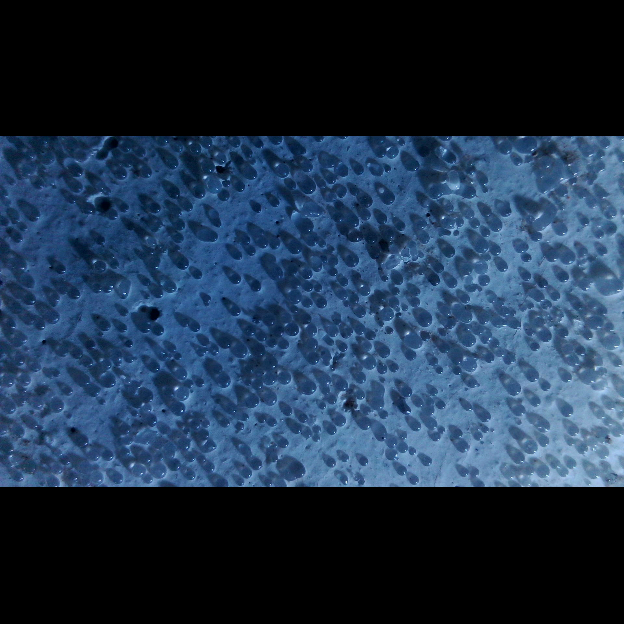GrassBeadSeg: (516, 139, 538, 154), (404, 333, 423, 349), (198, 229, 218, 243), (416, 312, 434, 327), (205, 178, 223, 193), (288, 464, 306, 479), (100, 374, 117, 388), (232, 344, 249, 358), (162, 443, 177, 458), (461, 359, 478, 372), (460, 334, 476, 347), (274, 165, 290, 178), (261, 392, 277, 405), (301, 181, 317, 194), (428, 186, 444, 199), (560, 251, 576, 264), (151, 466, 168, 478), (216, 375, 231, 388), (370, 398, 385, 411), (45, 311, 60, 324), (288, 242, 304, 254), (244, 396, 260, 408), (344, 255, 360, 267), (170, 403, 186, 415), (538, 157, 554, 169), (450, 353, 464, 366), (474, 262, 488, 275), (176, 388, 190, 401), (475, 240, 489, 253), (490, 219, 504, 232), (357, 418, 372, 430), (381, 193, 396, 205), (218, 337, 233, 349), (90, 472, 105, 484), (131, 465, 146, 477), (140, 390, 155, 402), (369, 164, 384, 176), (380, 309, 395, 321), (299, 222, 314, 234), (251, 344, 266, 356), (301, 381, 316, 393), (345, 216, 360, 228), (119, 142, 135, 153), (279, 372, 292, 385), (525, 441, 538, 454), (456, 441, 470, 453), (507, 383, 521, 395), (3, 402, 17, 414), (192, 187, 206, 199), (499, 142, 513, 154), (525, 370, 539, 382), (326, 326, 340, 338), (202, 162, 216, 174), (163, 282, 178, 293), (554, 224, 569, 235), (536, 467, 551, 478), (362, 358, 377, 369), (86, 386, 101, 397), (146, 259, 161, 270), (460, 264, 473, 276), (82, 203, 95, 215), (70, 182, 83, 194), (72, 166, 85, 178), (115, 168, 128, 180), (166, 158, 179, 170), (353, 307, 367, 318), (151, 325, 165, 336), (75, 436, 89, 447), (147, 362, 161, 373), (442, 247, 456, 258), (148, 203, 162, 214), (545, 251, 559, 262), (174, 369, 188, 380), (359, 197, 373, 208), (301, 161, 315, 172), (262, 315, 276, 326), (498, 206, 512, 217), (353, 325, 367, 336), (335, 380, 349, 391), (50, 401, 64, 412), (263, 358, 277, 369), (174, 259, 189, 269), (347, 232, 362, 242), (416, 234, 431, 244), (287, 292, 302, 302), (365, 234, 380, 244), (358, 285, 370, 297), (172, 141, 184, 153), (386, 147, 398, 159), (418, 146, 430, 158), (540, 330, 552, 342), (585, 372, 597, 384), (240, 468, 253, 479), (561, 406, 574, 417), (315, 298, 328, 309), (218, 191, 231, 202), (378, 347, 391, 358), (307, 353, 320, 364), (111, 473, 124, 484), (184, 470, 197, 481), (168, 188, 181, 199), (28, 211, 41, 222), (138, 322, 151, 333), (537, 421, 550, 432), (189, 143, 202, 154), (178, 439, 191, 450), (336, 289, 349, 300), (139, 168, 152, 179), (286, 324, 299, 335), (354, 373, 367, 384), (400, 386, 413, 397), (270, 269, 283, 280), (263, 374, 276, 385), (229, 274, 243, 284), (249, 460, 263, 470), (255, 238, 269, 248), (133, 148, 147, 158), (178, 318, 192, 328), (588, 469, 602, 479), (169, 461, 183, 471), (515, 243, 529, 253), (46, 478, 61, 487), (230, 306, 242, 317), (250, 281, 262, 292), (189, 322, 201, 333), (497, 261, 509, 272), (374, 147, 386, 158), (21, 166, 33, 177), (269, 239, 281, 250), (42, 153, 54, 164), (407, 161, 419, 172), (464, 187, 476, 198), (538, 183, 550, 194), (596, 189, 608, 200), (590, 318, 601, 330), (307, 235, 319, 246), (334, 415, 346, 426), (94, 261, 107, 271), (513, 406, 526, 416), (530, 232, 543, 242), (433, 263, 446, 273), (106, 210, 119, 220), (210, 364, 223, 374), (12, 472, 25, 482), (118, 425, 131, 435), (145, 416, 158, 426), (604, 224, 617, 234), (358, 211, 372, 220), (138, 454, 152, 463), (269, 136, 283, 145), (605, 208, 616, 219), (609, 337, 620, 348), (478, 276, 490, 286), (191, 270, 203, 280), (421, 457, 433, 467), (386, 438, 398, 448), (174, 221, 186, 231), (172, 234, 184, 244), (406, 351, 418, 361), (203, 463, 215, 473), (13, 427, 25, 437), (244, 325, 256, 335), (598, 449, 610, 459), (568, 356, 580, 366), (385, 451, 397, 461), (425, 420, 437, 430), (599, 139, 611, 149), (503, 470, 515, 480), (442, 218, 454, 228), (190, 420, 202, 430), (375, 432, 387, 442), (594, 163, 606, 173), (151, 289, 164, 298), (225, 405, 238, 414), (325, 458, 336, 468), (530, 397, 541, 407), (539, 437, 550, 447), (397, 466, 408, 476), (245, 247, 256, 257), (490, 246, 501, 256), (561, 373, 572, 383), (301, 429, 312, 439), (353, 165, 364, 175), (480, 412, 491, 422), (424, 406, 435, 416), (358, 457, 370, 466), (410, 422, 422, 431), (514, 454, 526, 463), (540, 382, 552, 391), (388, 364, 400, 373), (577, 445, 589, 454), (376, 215, 388, 224), (277, 439, 289, 448), (102, 451, 114, 460), (451, 430, 463, 439), (231, 251, 243, 260), (509, 320, 521, 329), (483, 354, 495, 363), (291, 425, 303, 434), (369, 250, 381, 259), (198, 430, 210, 439), (325, 193, 337, 202), (160, 351, 172, 360), (307, 340, 319, 349), (493, 318, 505, 327), (60, 456, 72, 465), (25, 464, 37, 473), (216, 479, 229, 487), (121, 437, 134, 445), (239, 236, 252, 244), (56, 264, 66, 274), (410, 298, 420, 308), (71, 289, 81, 299), (25, 278, 35, 288), (26, 295, 36, 305), (25, 315, 35, 325), (6, 321, 16, 331), (18, 333, 28, 343), (31, 362, 41, 372), (4, 377, 14, 387), (73, 349, 83, 359), (80, 375, 90, 385), (100, 321, 110, 331), (92, 284, 102, 294), (17, 395, 27, 405), (33, 399, 43, 409), (63, 386, 73, 396), (575, 347, 586, 356), (119, 204, 130, 213), (513, 157, 524, 166), (377, 365, 388, 374), (504, 356, 515, 365), (365, 331, 376, 340), (119, 448, 130, 457), (428, 357, 439, 366), (462, 403, 473, 412), (196, 348, 207, 357), (200, 337, 211, 346), (183, 202, 194, 211), (410, 287, 421, 296), (534, 319, 545, 328), (160, 425, 171, 434), (158, 136, 169, 145), (246, 171, 257, 180), (286, 181, 297, 190), (269, 198, 280, 207), (338, 168, 349, 177), (374, 136, 385, 145), (89, 451, 100, 460), (52, 465, 63, 474), (219, 419, 231, 427), (586, 200, 598, 208), (332, 214, 344, 222), (459, 468, 469, 477), (339, 475, 349, 484), (197, 454, 207, 463), (473, 432, 483, 441), (50, 293, 59, 303), (36, 321, 45, 331), (15, 356, 24, 366), (20, 376, 30, 385), (86, 340, 95, 350), (202, 139, 212, 148), (216, 155, 226, 164), (235, 183, 245, 192), (326, 158, 336, 167), (446, 155, 456, 164), (444, 203, 454, 212), (464, 210, 474, 219), (417, 220, 427, 229), (396, 222, 406, 231), (536, 221, 546, 230), (558, 188, 568, 197), (598, 247, 608, 256), (580, 282, 590, 291), (559, 273, 569, 282), (598, 307, 608, 316), (542, 300, 552, 309), (535, 293, 545, 302), (522, 272, 532, 281), (500, 307, 510, 316), (604, 323, 614, 332), (595, 410, 605, 419), (603, 417, 613, 426), (606, 402, 616, 411), (612, 428, 622, 437), (566, 438, 576, 447), (569, 427, 579, 436), (567, 460, 577, 469), (445, 320, 455, 329), (479, 315, 489, 324), (394, 276, 404, 285), (307, 327, 317, 336), (274, 327, 284, 336), (321, 377, 331, 386), (327, 425, 337, 434), (268, 338, 278, 347), (210, 346, 220, 355), (298, 414, 308, 423), (401, 406, 411, 415), (398, 443, 408, 452), (257, 332, 267, 341), (430, 433, 441, 441), (521, 254, 532, 262), (594, 231, 605, 239), (558, 329, 569, 337), (612, 359, 623, 367), (470, 468, 479, 477), (421, 198, 430, 207), (455, 218, 464, 227), (385, 230, 394, 239), (482, 208, 491, 217), (579, 247, 588, 256), (599, 381, 608, 390), (552, 460, 561, 469), (474, 325, 483, 334), (463, 313, 472, 322), (448, 279, 457, 288), (350, 295, 359, 304), (440, 344, 449, 353), (303, 299, 312, 308), (268, 418, 277, 427), (257, 414, 266, 423), (165, 389, 174, 398), (196, 378, 205, 387), (253, 314, 262, 323), (284, 407, 293, 416), (356, 391, 365, 400), (240, 413, 249, 422), (236, 422, 245, 431), (280, 340, 289, 349), (302, 315, 311, 324), (303, 270, 312, 279), (313, 263, 322, 272), (254, 380, 263, 389), (436, 401, 446, 409), (409, 476, 419, 484), (328, 269, 338, 277), (313, 284, 323, 292), (186, 454, 196, 462), (422, 333, 432, 341), (574, 302, 584, 310), (583, 332, 593, 340), (430, 277, 440, 285), (282, 314, 292, 322), (207, 442, 217, 450), (143, 476, 154, 483), (531, 343, 540, 351), (380, 411, 389, 419), (429, 388, 438, 396), (8, 178, 17, 186), (142, 278, 151, 286), (479, 177, 488, 185), (588, 301, 597, 309), (552, 293, 561, 301), (539, 280, 548, 288), (399, 433, 408, 441), (390, 298, 399, 306), (461, 295, 470, 303), (362, 342, 371, 350), (185, 380, 194, 388), (341, 454, 349, 463), (384, 327, 394, 334), (481, 230, 491, 237), (559, 470, 569, 477), (470, 221, 480, 228), (525, 329, 535, 336), (416, 268, 426, 275), (68, 196, 76, 204), (36, 182, 44, 190), (12, 216, 20, 224), (20, 224, 28, 232), (1, 219, 9, 227), (59, 286, 67, 294), (125, 340, 133, 348), (119, 324, 127, 332), (120, 291, 128, 299), (111, 261, 119, 269), (97, 237, 105, 245), (223, 179, 231, 187), (245, 150, 253, 158), (256, 141, 264, 149), (492, 340, 500, 348), (426, 398, 434, 406), (454, 367, 462, 375), (436, 366, 444, 374), (469, 379, 477, 387), (497, 349, 505, 357), (416, 399, 424, 407), (326, 338, 334, 346), (342, 330, 350, 338), (290, 306, 298, 314), (292, 280, 300, 288), (304, 284, 312, 292), (340, 278, 348, 286), (322, 387, 330, 395), (203, 294, 211, 302), (313, 434, 321, 442), (289, 268, 297, 276), (391, 288, 400, 295), (362, 407, 371, 414), (408, 448, 417, 455), (168, 345, 177, 352), (142, 438, 151, 445), (314, 425, 321, 434), (401, 305, 409, 312), (15, 235, 23, 242), (18, 264, 26, 271), (120, 309, 128, 316), (125, 160, 133, 167), (233, 140, 241, 147), (254, 206, 262, 213), (292, 148, 300, 155), (318, 181, 326, 188), (328, 176, 335, 184), (482, 337, 490, 344), (526, 468, 534, 475), (443, 308, 451, 315), (339, 344, 347, 351), (330, 259, 338, 266), (270, 456, 278, 463), (203, 420, 211, 427), (237, 479, 245, 486), (264, 480, 272, 487), (83, 479, 91, 486), (319, 402, 326, 410), (328, 397, 336, 404), (246, 452, 254, 459), (380, 276, 389, 282), (131, 411, 140, 417), (54, 370, 61, 377), (48, 372, 55, 379), (300, 148, 307, 155), (351, 188, 358, 195), (399, 139, 406, 146), (571, 169, 578, 176), (467, 277, 474, 284), (98, 399, 106, 405), (174, 353, 182, 359), (70, 475, 78, 481), (62, 350, 68, 357), (144, 293, 150, 300), (469, 168, 476, 174), (482, 187, 488, 194), (453, 230, 460, 236), (510, 310, 517, 316), (489, 297, 496, 303), (482, 426, 489, 432), (439, 427, 446, 433), (464, 325, 471, 331), (131, 389, 137, 396), (157, 454, 163, 461), (185, 427, 191, 434), (55, 450, 62, 456), (8, 461, 14, 468), (8, 446, 14, 453), (105, 363, 111, 369), (115, 355, 121, 361), (128, 357, 134, 363), (108, 282, 114, 288), (105, 287, 111, 293), (385, 166, 391, 172), (526, 157, 532, 163), (538, 172, 544, 178), (558, 175, 564, 181), (570, 180, 576, 186), (586, 151, 592, 157), (579, 194, 585, 200), (583, 219, 589, 225), (589, 257, 595, 263), (528, 304, 534, 310), (521, 306, 527, 312), (499, 301, 505, 307), (470, 286, 476, 292), (485, 255, 491, 261), (336, 320, 342, 326), (145, 407, 151, 413), (47, 437, 53, 443), (31, 422, 37, 428), (37, 425, 43, 431), (67, 413, 73, 419), (246, 379, 252, 385), (247, 367, 253, 373), (117, 161, 122, 167), (329, 247, 335, 252), (320, 243, 326, 248), (322, 258, 328, 263), (355, 275, 361, 280), (217, 223, 223, 228), (176, 212, 182, 217), (157, 245, 163, 250), (7, 202, 12, 207), (3, 194, 8, 199), (50, 181, 55, 186), (42, 168, 47, 173), (29, 154, 34, 159), (43, 140, 48, 145), (99, 185, 104, 190), (106, 190, 111, 195), (339, 193, 344, 198), (517, 420, 522, 425), (162, 248, 167, 253), (149, 250, 154, 255), (150, 241, 155, 246), (175, 247, 180, 252), (110, 254, 115, 259), (42, 379, 46, 384), (117, 362, 122, 366), (599, 154, 603, 159), (380, 322, 384, 327), (330, 365, 334, 370), (310, 422, 315, 426), (154, 430, 158, 435), (156, 226, 160, 231), (158, 223, 163, 227), (22, 389, 26, 393), (45, 391, 49, 395), (50, 395, 54, 399), (25, 348, 29, 352), (85, 363, 89, 367), (89, 362, 93, 366), (443, 177, 447, 181), (469, 181, 473, 185), (469, 162, 473, 166), (447, 231, 451, 235), (420, 254, 424, 258), (413, 252, 417, 256), (567, 162, 571, 166), (478, 287, 482, 291), (303, 213, 307, 217), (260, 231, 264, 235), (396, 307, 400, 311), (397, 313, 401, 317), (380, 297, 384, 301), (369, 311, 373, 315), (345, 303, 349, 307), (442, 332, 446, 336), (381, 379, 385, 383), (359, 367, 363, 371), (325, 362, 329, 366), (334, 358, 338, 362), (126, 379, 130, 383), (136, 383, 140, 387), (389, 241, 393, 244), (556, 201, 560, 204), (577, 263, 581, 266), (589, 281, 593, 284), (309, 211, 312, 215), (317, 213, 320, 216), (440, 234, 443, 237), (584, 179, 587, 182), (590, 182, 593, 185), (583, 261, 586, 264), (561, 315, 564, 318), (550, 318, 553, 321), (546, 314, 549, 317), (559, 319, 562, 322), (550, 324, 553, 327), (592, 448, 595, 451), (594, 444, 597, 447), (606, 442, 609, 445), (504, 464, 507, 467), (491, 429, 494, 432), (477, 384, 480, 387), (561, 205, 564, 207), (602, 440, 604, 443), (588, 482, 590, 485), (528, 482, 530, 485), (481, 442, 484, 444), (608, 479, 610, 481), (621, 136, 623, 137)
